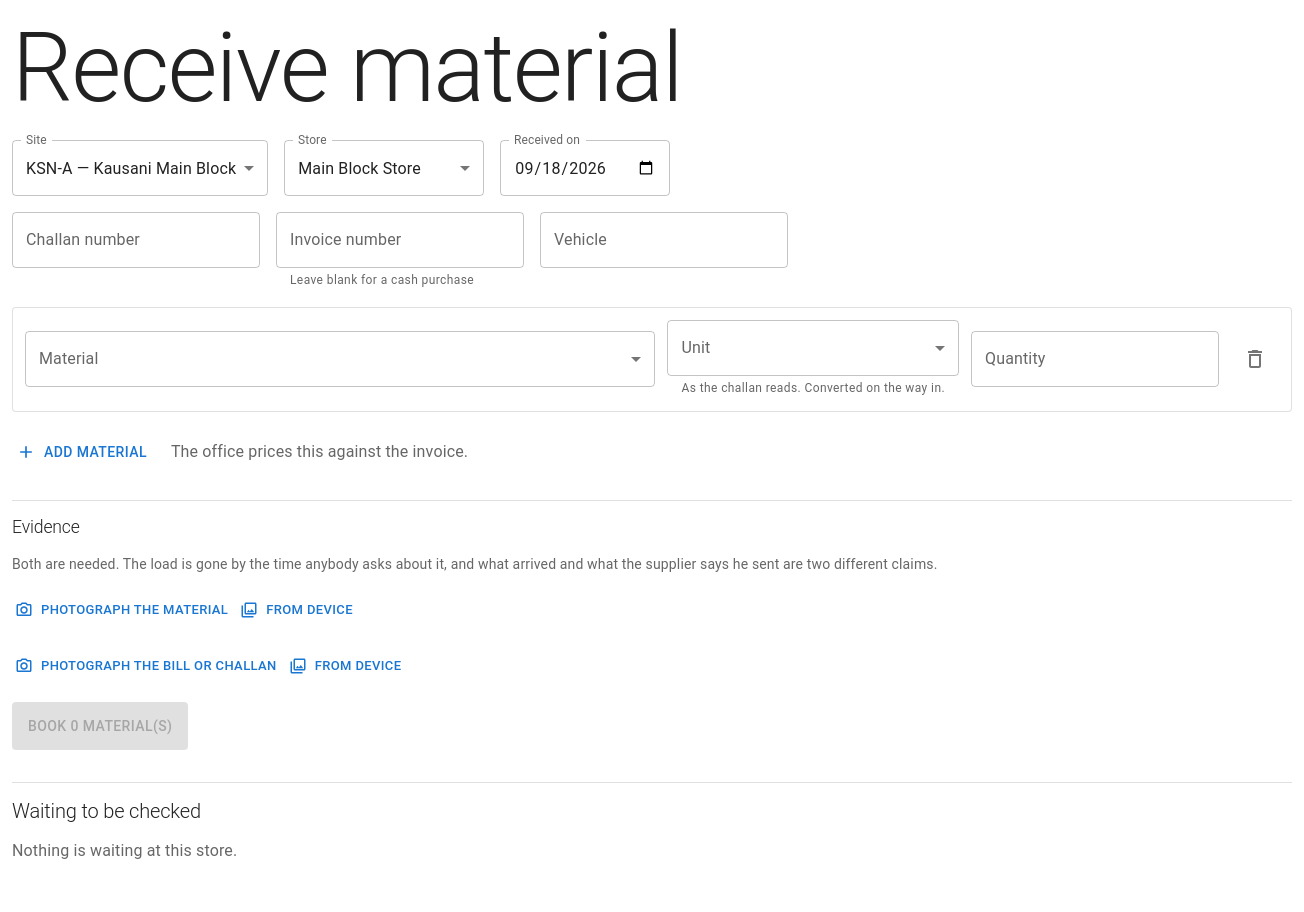
ReceiveMaterialPage › preselects the material’s own unit but leaves it changeable
Step 1. Click the 2nd dropdown named "Material" → point(340, 359), box x1=25 y1=331 x2=656 y2=387
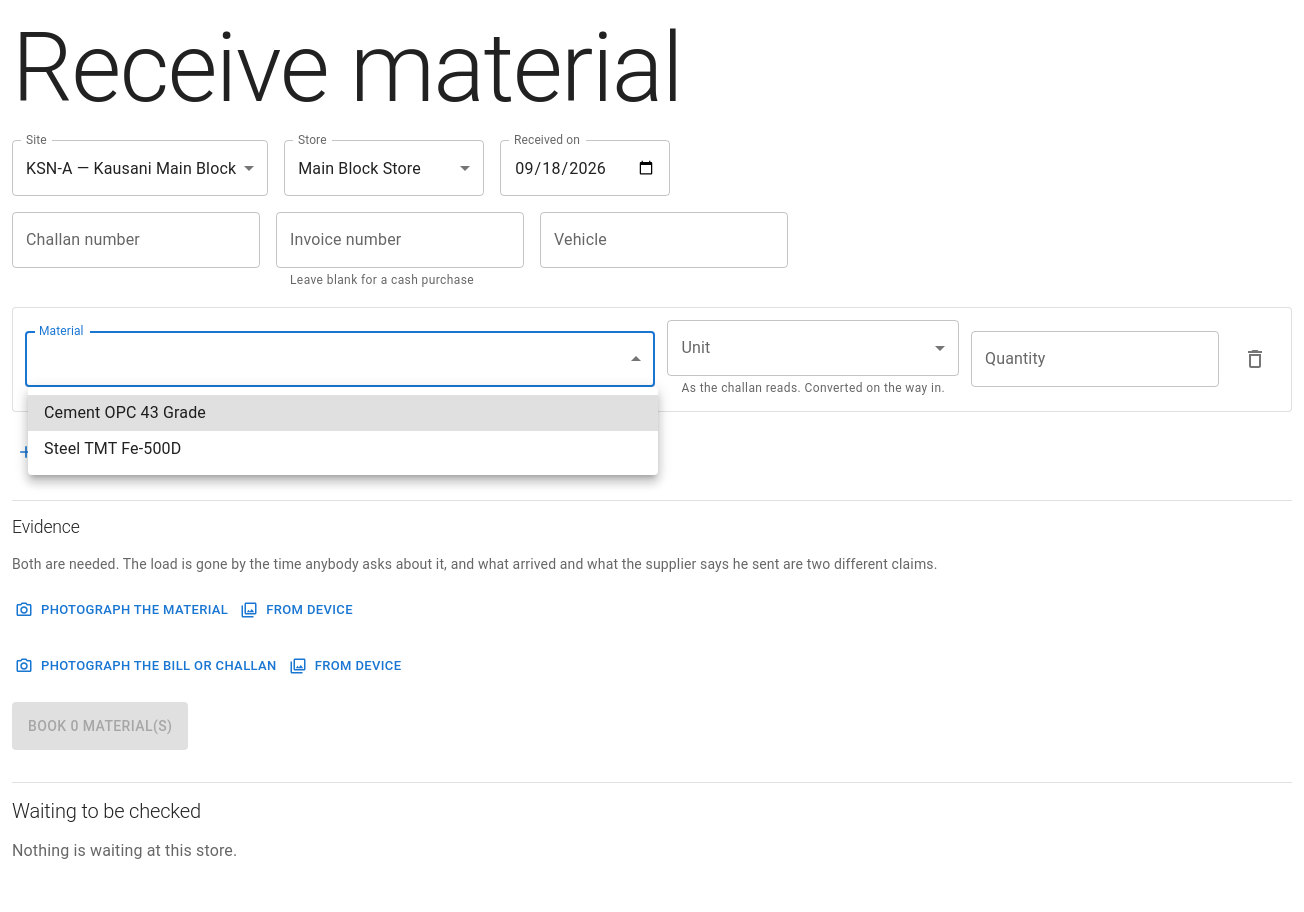
Step 2. Click the option "Steel TMT Fe-500D" → point(113, 448), box x1=44 y1=439 x2=181 y2=458
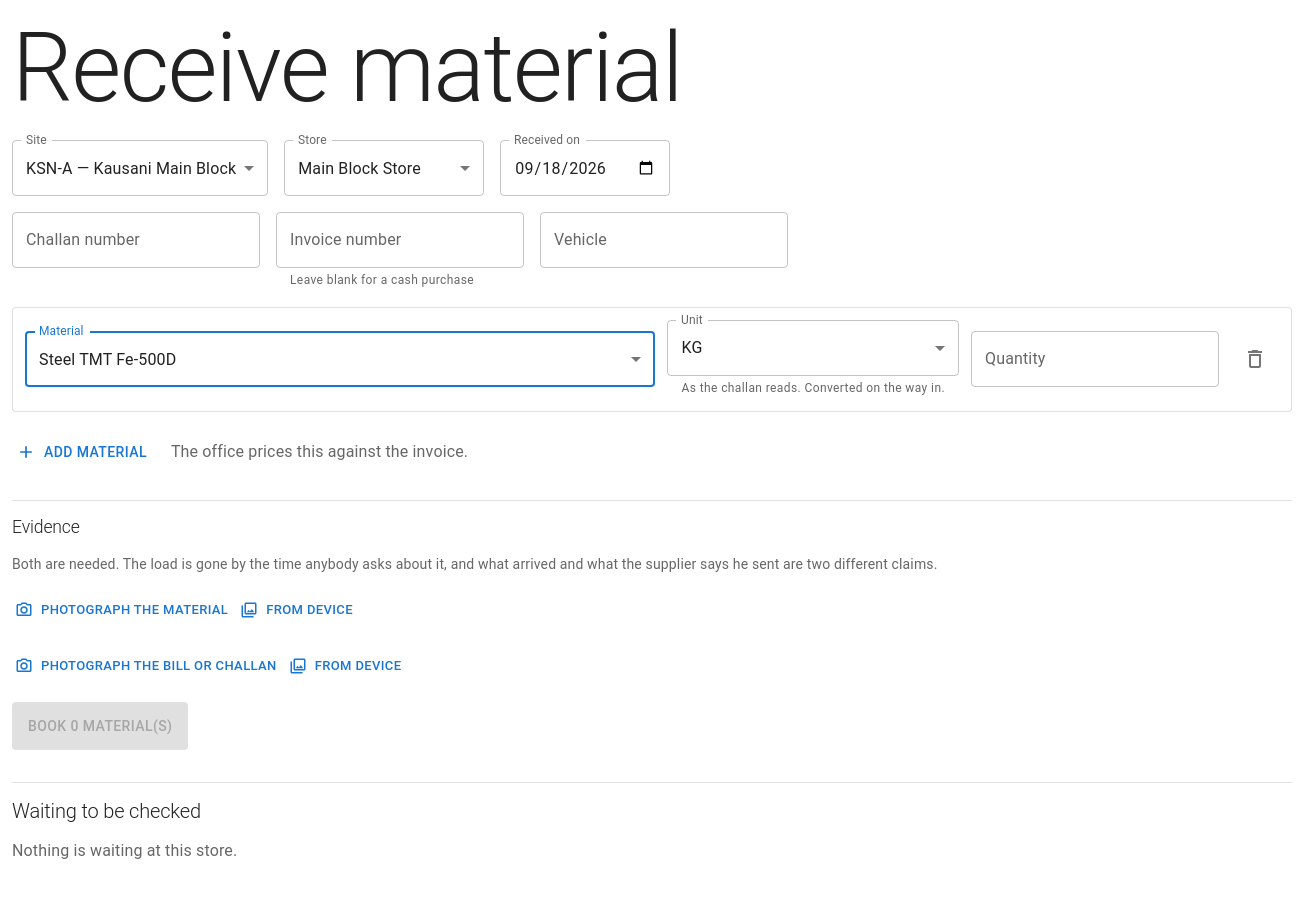
Expected: the dropdown named "Unit" reads "KG"
Step 3. Click the dropdown named "Unit" → point(692, 348), box x1=682 y1=338 x2=702 y2=357
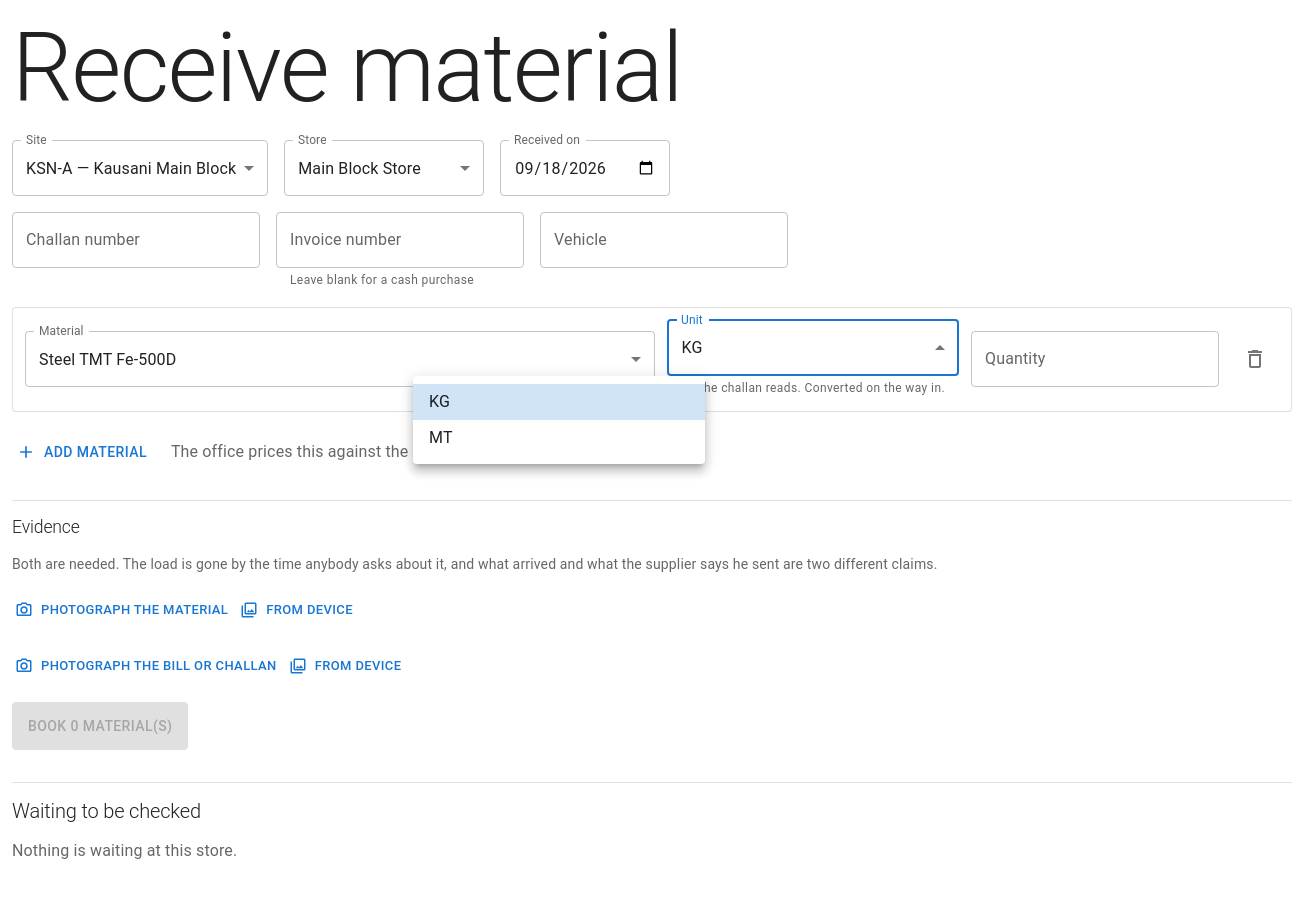
Step 4. Click the option "MT" → point(441, 438), box x1=429 y1=428 x2=453 y2=447
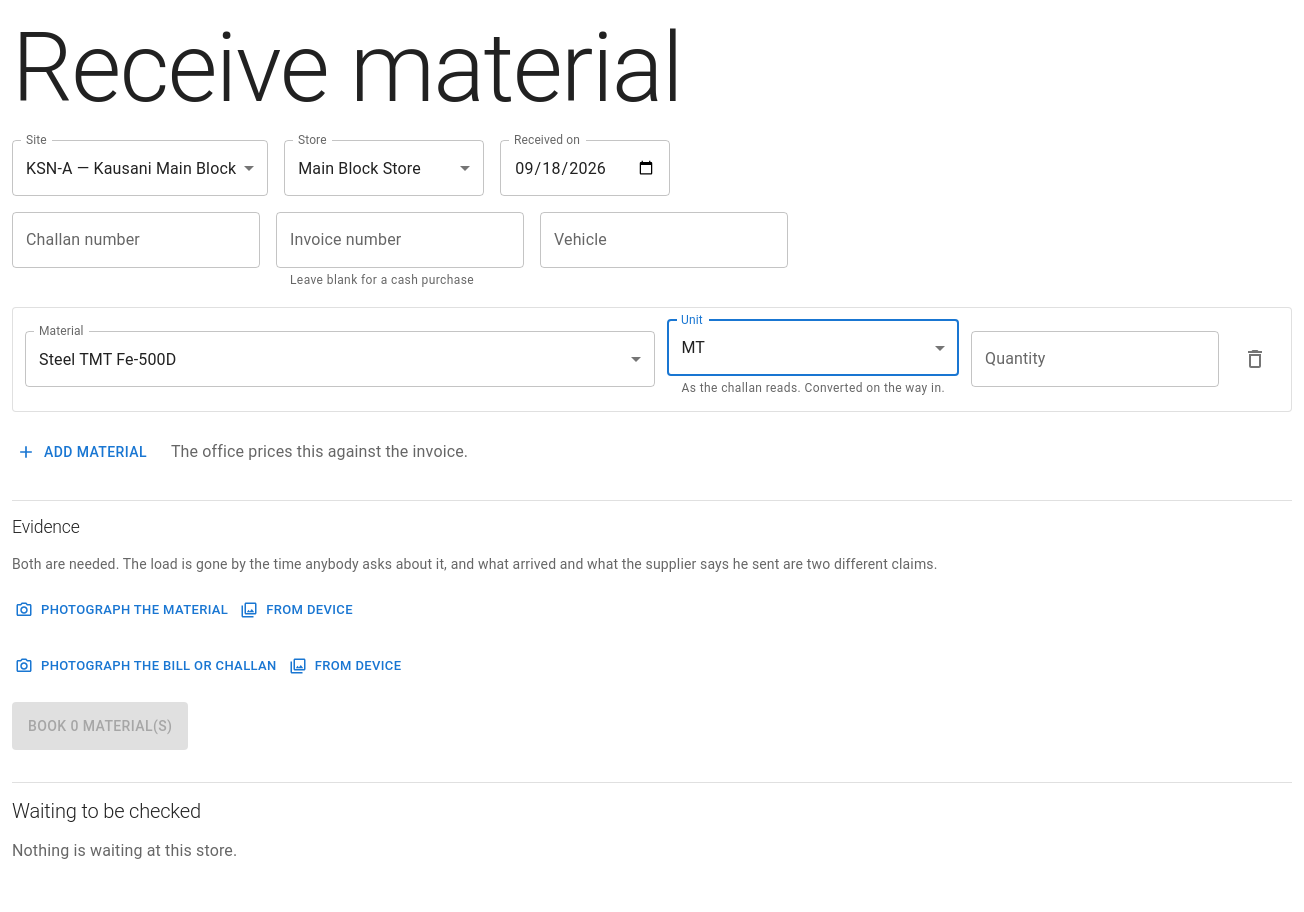
Expected: the dropdown named "Unit" reads "MT", x1=682 y1=338 x2=705 y2=357
